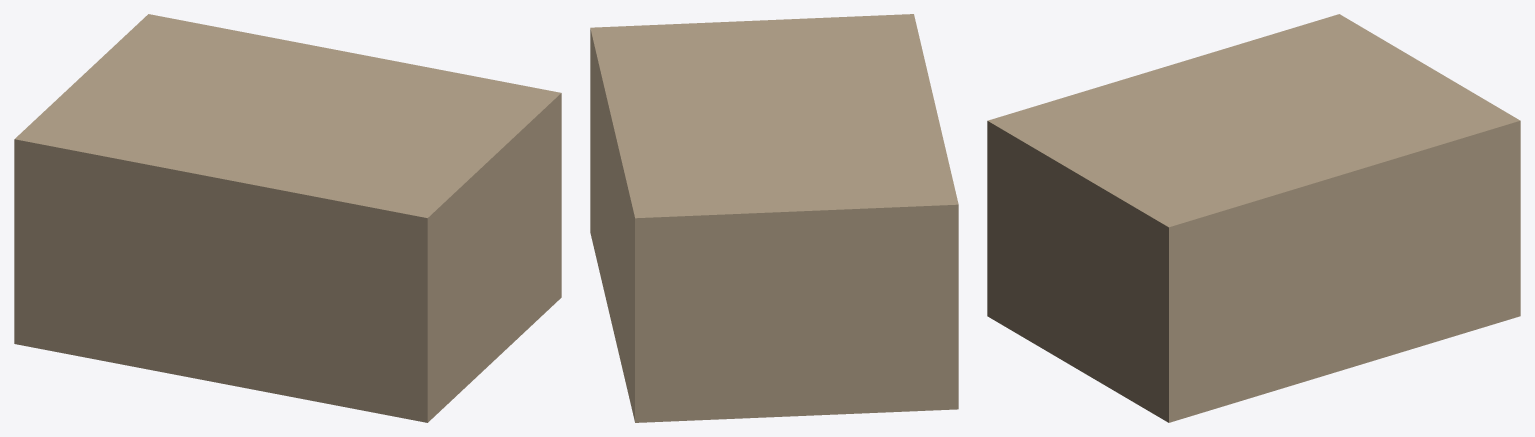
File: bld_101374788.dae
The picture shows the model from 3 angles, left to right: view 1: azimuth 30°, elevation 25°; view 2: azimuth 150°, elevation 25°; view 3: azimuth 270°, elevation 25°; orthographic projection. The views are drawn at different scales.
Parts seen in each view (by area): view 1: bld_101374788; view 2: bld_101374788; view 3: bld_101374788.
Boxes of the visible parts, x1,y1,x2,y2 form: bld_101374788: [14, 14, 561, 422]; bld_101374788: [590, 14, 958, 422]; bld_101374788: [987, 14, 1520, 422].
Size of the model in its own units: 18.72 by 19.76 by 8.
